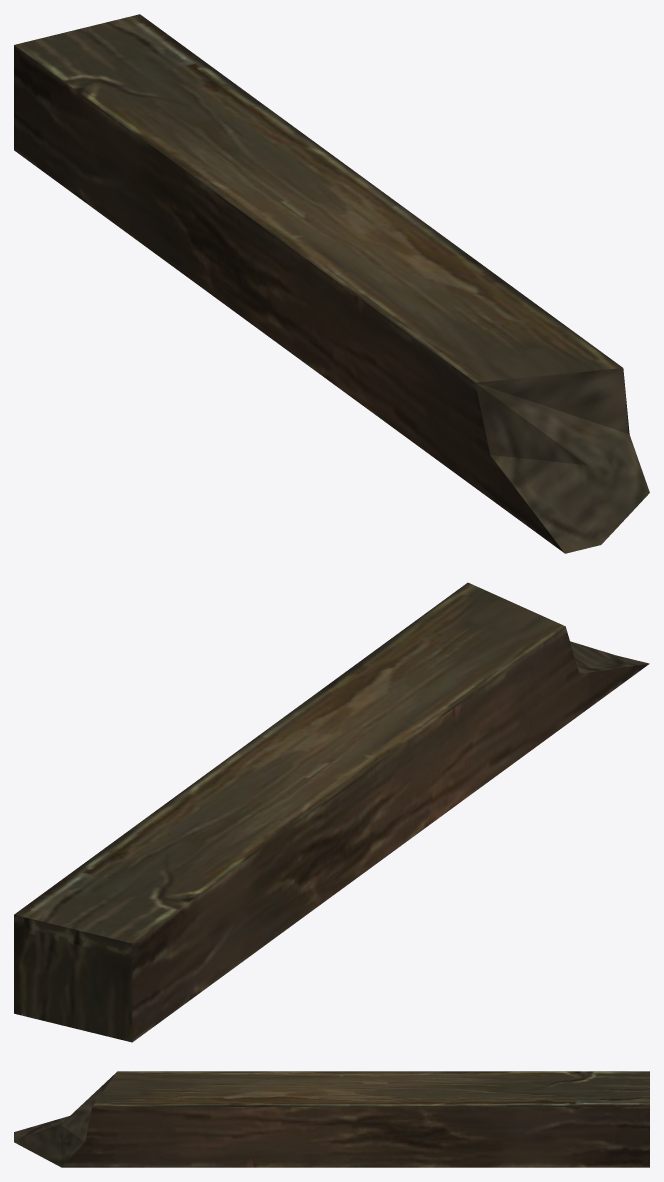
File: Z_mutou003.fbx
3 views of the same model, one above another, from view 1: azimuth 30°, elevation 25°; view 2: azimuth 150°, elevation 25°; view 3: azimuth 270°, elevation 25° (orthographic). The views are drawn at different scales.
Parts seen in each view (by area): view 1: Z_mutou003; view 2: Z_mutou003; view 3: Z_mutou003.
Boxes of the visible parts, box(x1,y1,x2,y2) form: Z_mutou003: box(14, 14, 649, 553); Z_mutou003: box(14, 582, 649, 1042); Z_mutou003: box(14, 1071, 649, 1167).
Bounding box in the file's own units: 83.94 × 67.08 × 636.
